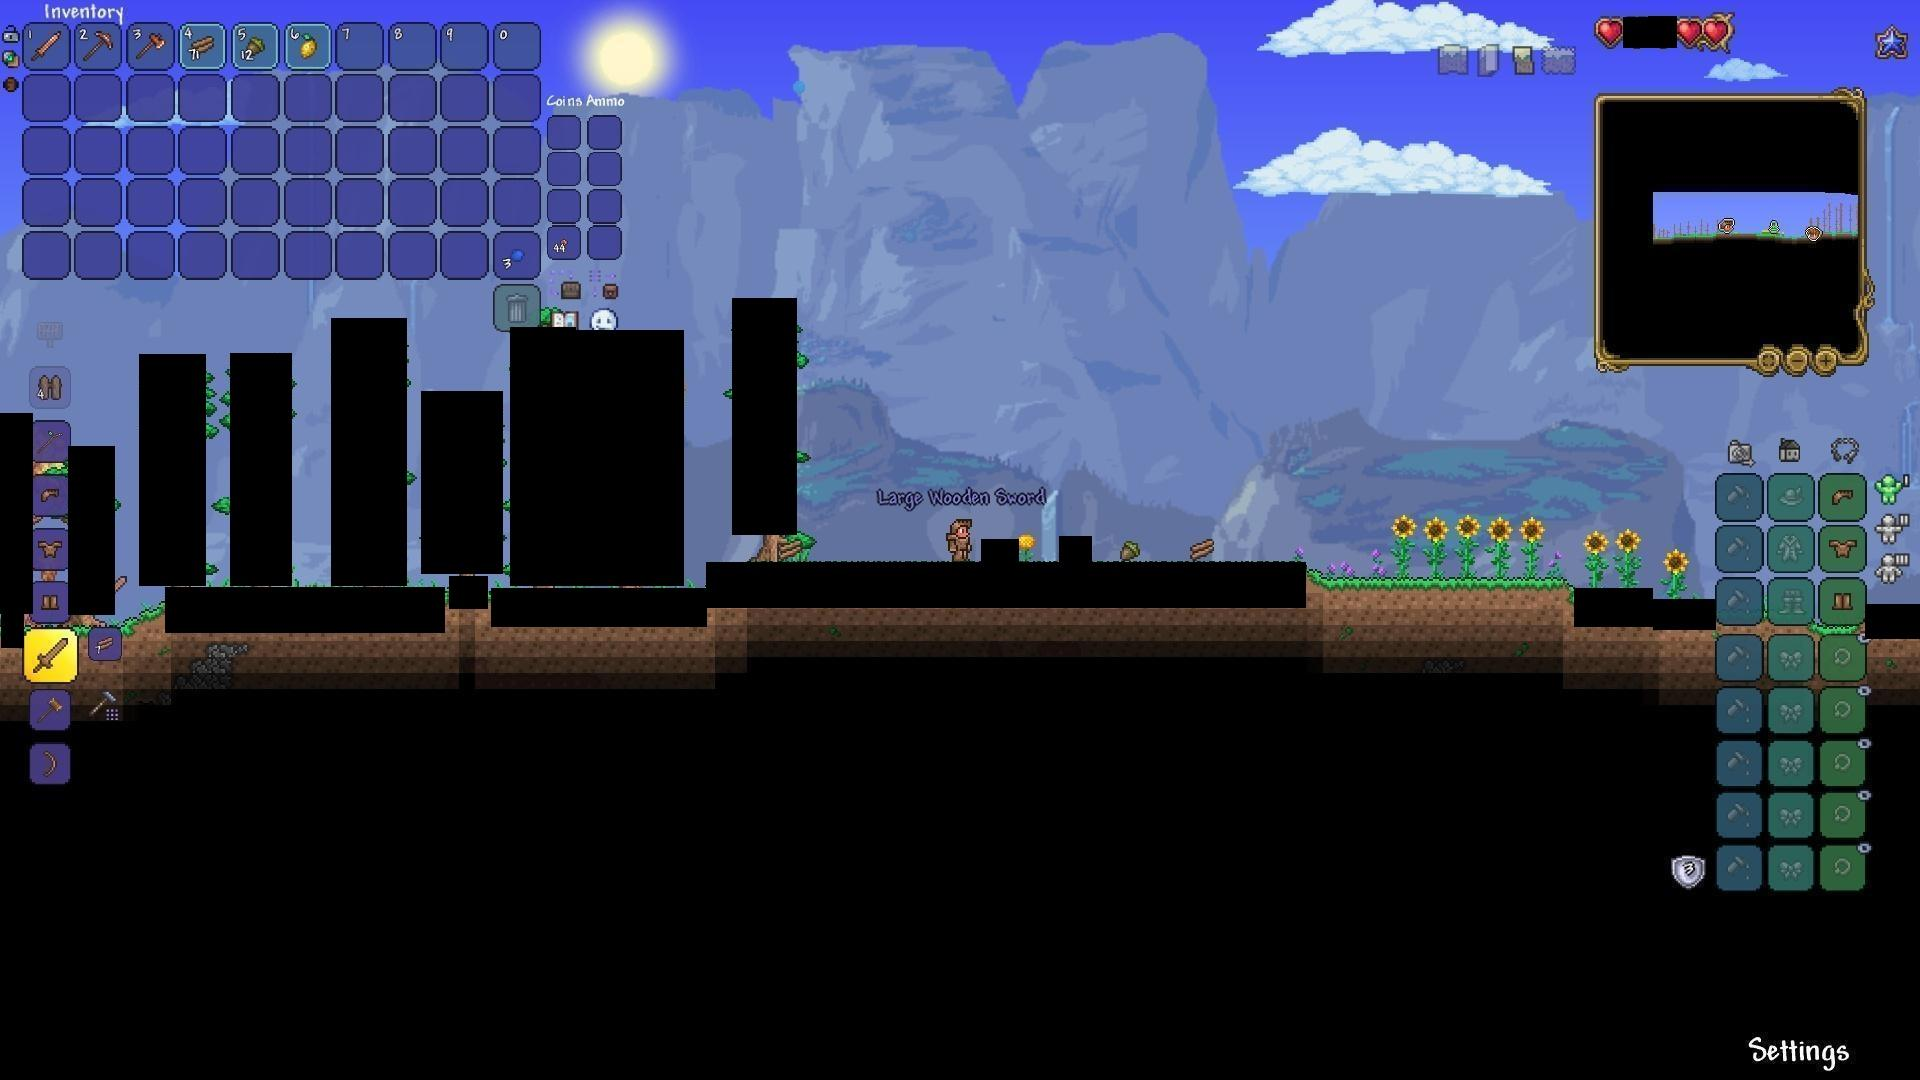breastplate: (1830, 535, 1859, 556), (36, 538, 65, 559)
dirt: (1311, 570, 1575, 628)
heart: (1596, 16, 1626, 45), (1702, 17, 1731, 47), (1676, 17, 1704, 47)
helmet: (34, 483, 65, 510), (1828, 483, 1858, 509)
legs: (40, 587, 65, 616), (1832, 585, 1855, 615)
wood: (1185, 535, 1218, 566), (187, 29, 219, 59), (91, 629, 123, 659), (775, 535, 807, 566)
